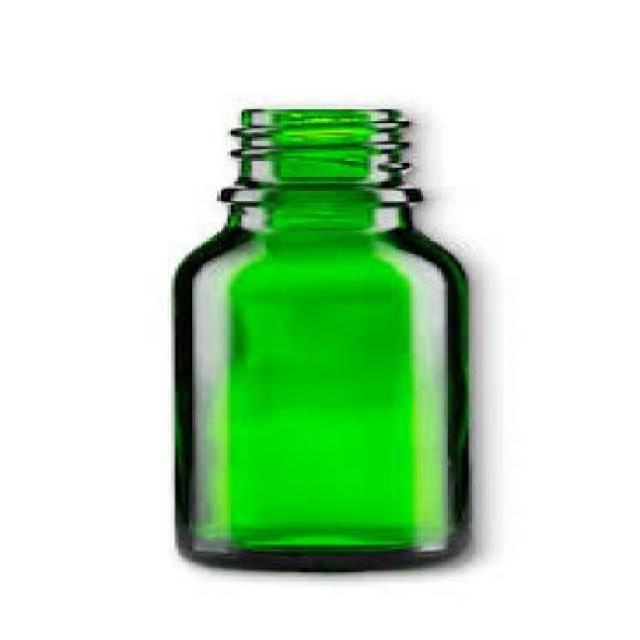GLASS: (178, 107, 470, 570)
